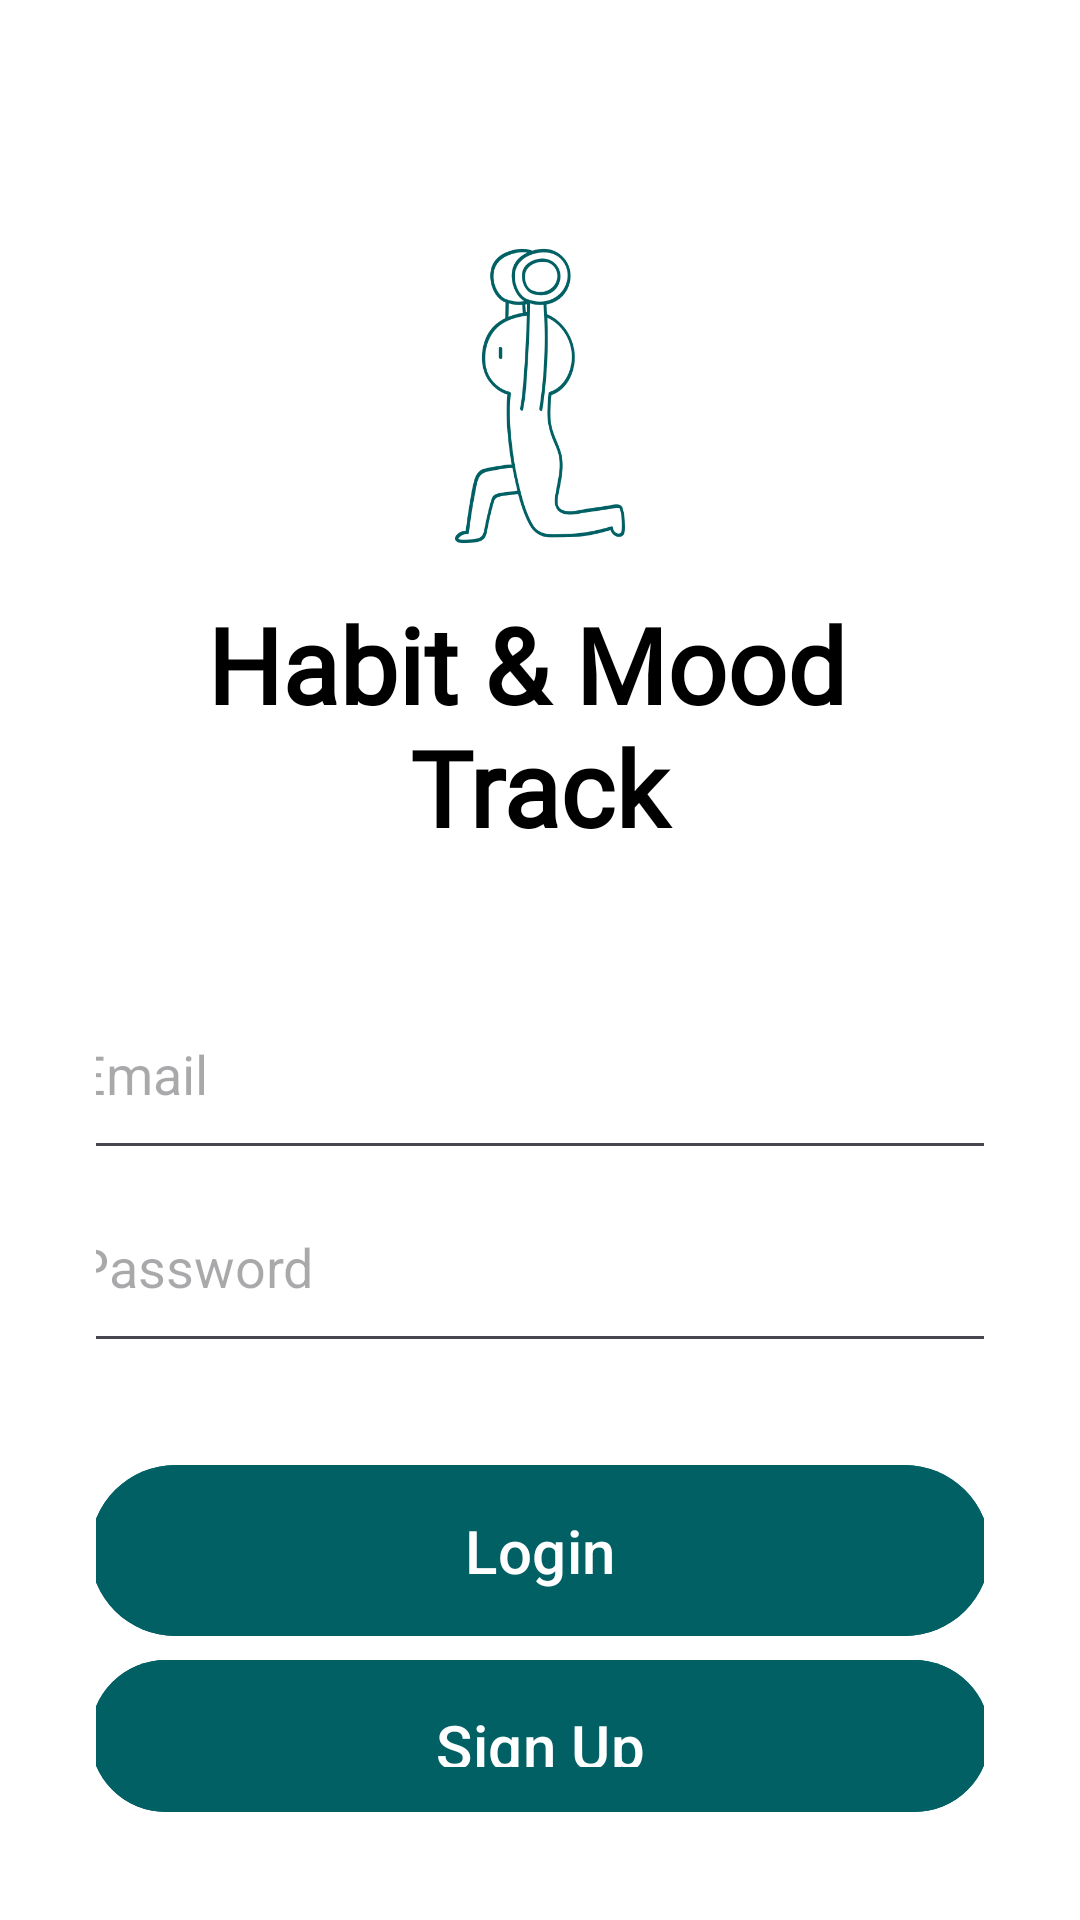

Icons on this 1080px×1920px Android screen, each with the point to tap as (x=x, y=y):
work out: (x=540, y=395)
